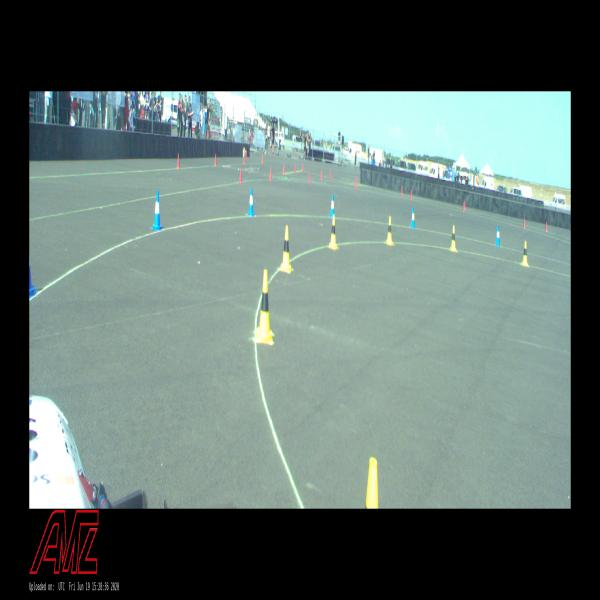blue_cone: (29, 250, 38, 298), (153, 191, 162, 230), (248, 188, 255, 216), (329, 194, 336, 219), (410, 208, 415, 228), (495, 226, 500, 246)
yellow_cone: (257, 269, 273, 344), (366, 457, 378, 508), (281, 226, 291, 272), (329, 215, 337, 250), (386, 216, 393, 244), (450, 226, 456, 251), (522, 241, 528, 266)
